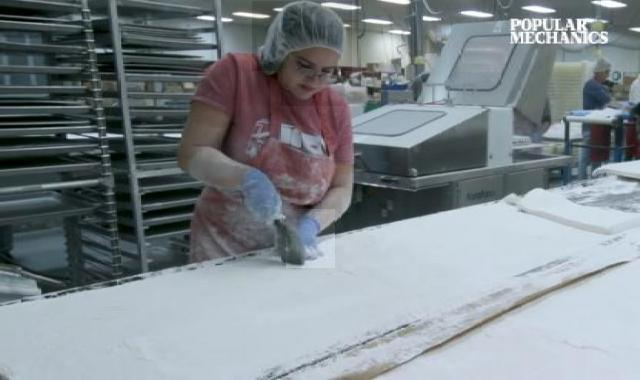apron: (236, 164, 284, 227), (287, 210, 336, 268)
gloves: (252, 1, 352, 71)
no_hairnet: (281, 70, 345, 107)
